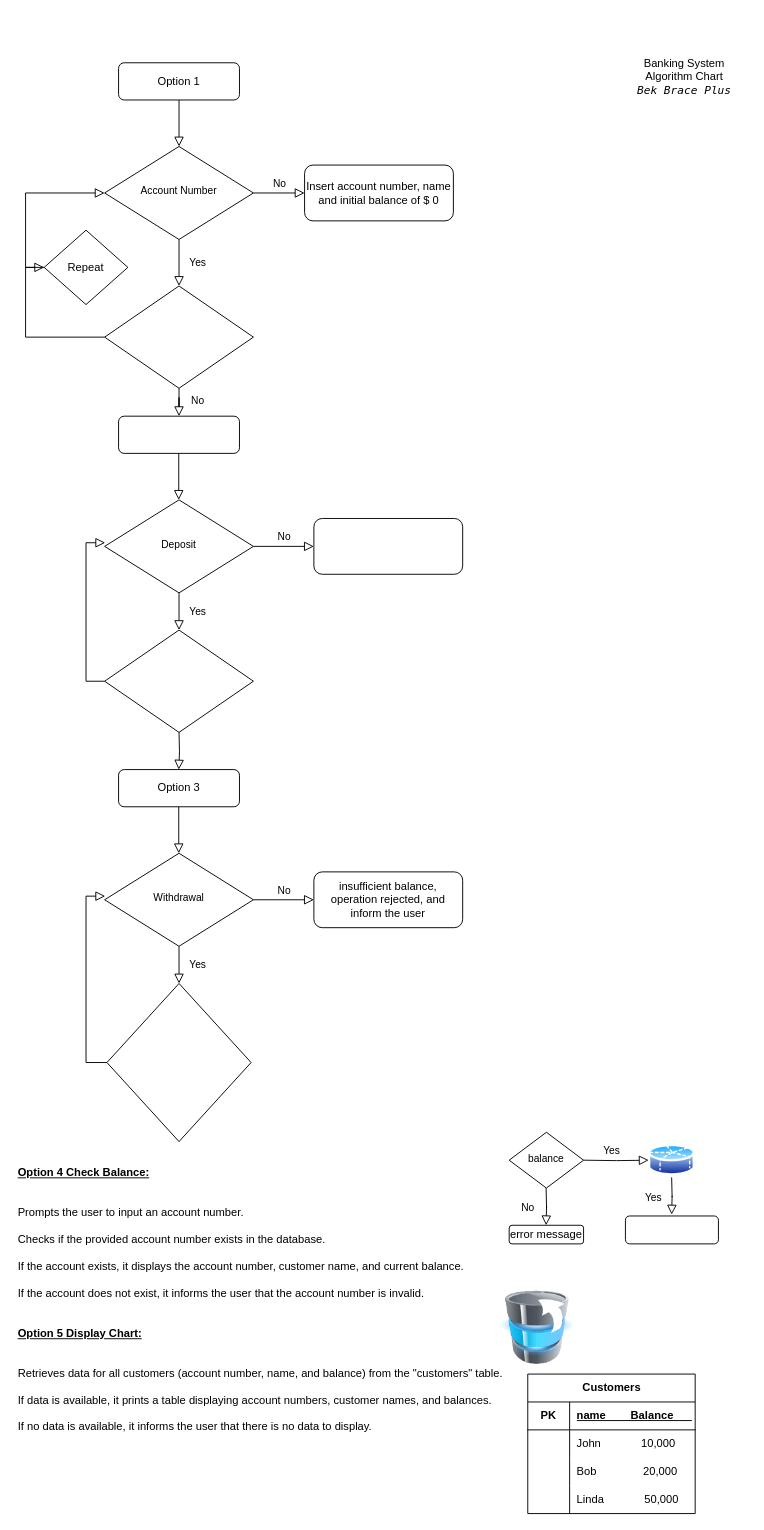
Some shapes in this 764 by 1530 pixel diagram are drawn without their labels. Each missing label, with the centre of its shape:
balance exists and sufficient : Updates by subtracting: point 178,1062
Choose different A/C number: point 178,336
display account number: point 671,1229
Option 2: point 178,434
print statement that account number is invalid: point 388,546
Updates the balance: point 178,680
